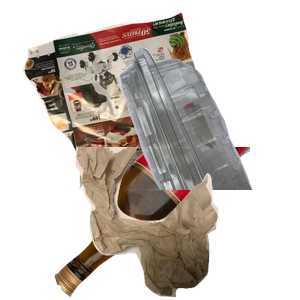glass: (52, 147, 292, 300)
paper: (20, 10, 231, 190)
plastic: (71, 45, 300, 225)
trash: (73, 147, 300, 300)
